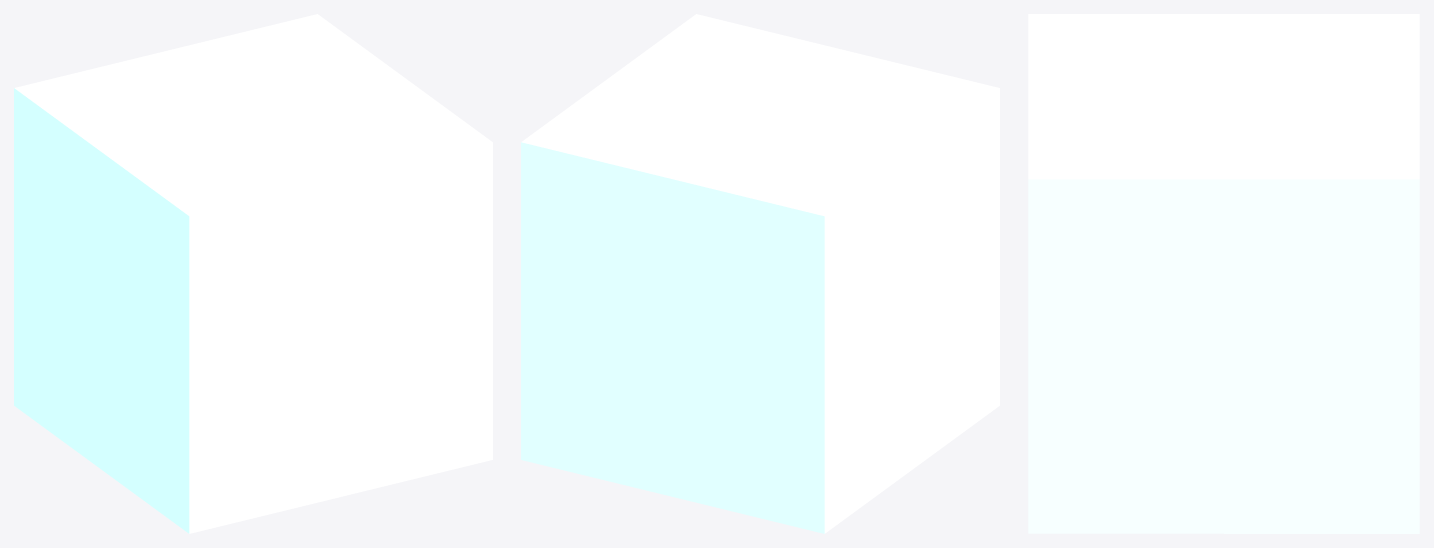
File: mainmodel.gltf
3 renders of one model, left to right at view 1: azimuth 30°, elevation 25°; view 2: azimuth 150°, elevation 25°; view 3: azimuth 270°, elevation 25°, orthographic. The views are drawn at different scales.
Visible parts, largest first — view 1: Box6, Box2, Box1, Box7, Box0, Box3, Box5; view 2: Box7, Box3, Box5, Box6, Box4, Box2, Box1; view 3: Box1, Box5, Box0, Box4, Box6, Box7.
Part boxes in pixels (box(x1,y1,x2,y2)): Box6: box(101, 115, 340, 374); Box2: box(101, 311, 340, 533); Box1: box(254, 78, 492, 337); Box7: box(14, 51, 252, 310); Box0: box(341, 301, 492, 496); Box3: box(14, 247, 101, 469); Box5: box(166, 14, 404, 114); Box7: box(673, 115, 912, 374); Box3: box(673, 311, 912, 533); Box5: box(521, 78, 759, 337); Box6: box(761, 51, 999, 310); Box4: box(521, 301, 672, 496); Box2: box(912, 247, 999, 469); Box1: box(609, 14, 847, 114); Box1: box(1028, 96, 1223, 356); Box5: box(1224, 96, 1419, 356); Box0: box(1028, 356, 1223, 533); Box4: box(1224, 356, 1419, 533); Box6: box(1028, 14, 1223, 96); Box7: box(1224, 14, 1419, 96).
Bounding box in the file's own units: 2 × 2 × 2.
